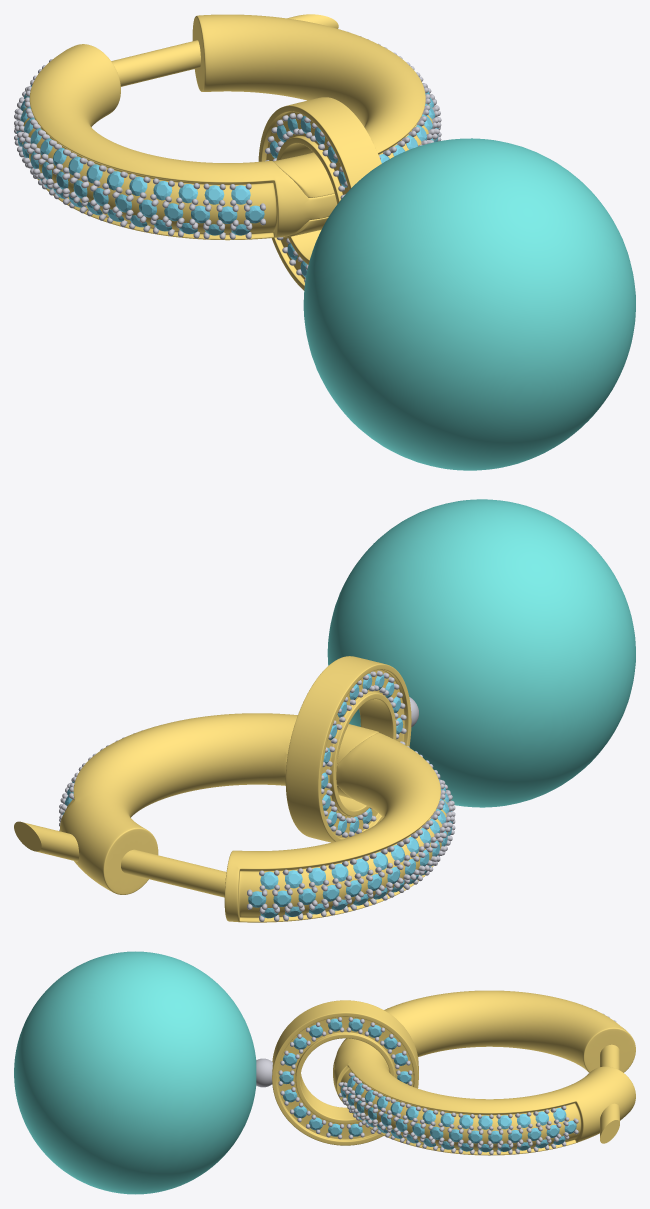
Rendered from EarRing_02.glb.
The picture shows the model from 3 angles, top to bottom: view 1: azimuth 30°, elevation 25°; view 2: azimuth 150°, elevation 25°; view 3: azimuth 270°, elevation 25°; orthographic projection. The views are drawn at different scales.
Parts seen in each view (by area): view 1: Earring_2; view 2: Earring_2; view 3: Earring_2.
Boxes of the visible parts, x1=… form: Earring_2: x1=14, y1=14, x2=635, y2=470; Earring_2: x1=14, y1=499, x2=635, y2=922; Earring_2: x1=14, y1=951, x2=635, y2=1194.
Bounding box in the file's own units: 0.4904 × 0.3798 × 0.9722.
